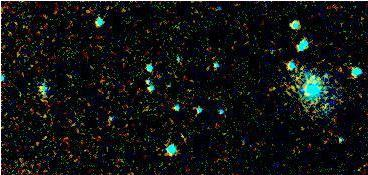star: (302, 61, 332, 91)
